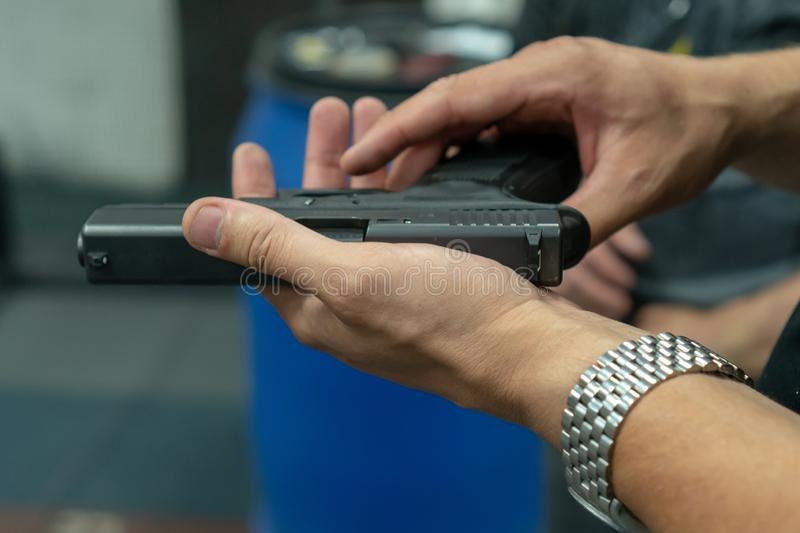weapon: (69, 115, 598, 294)
